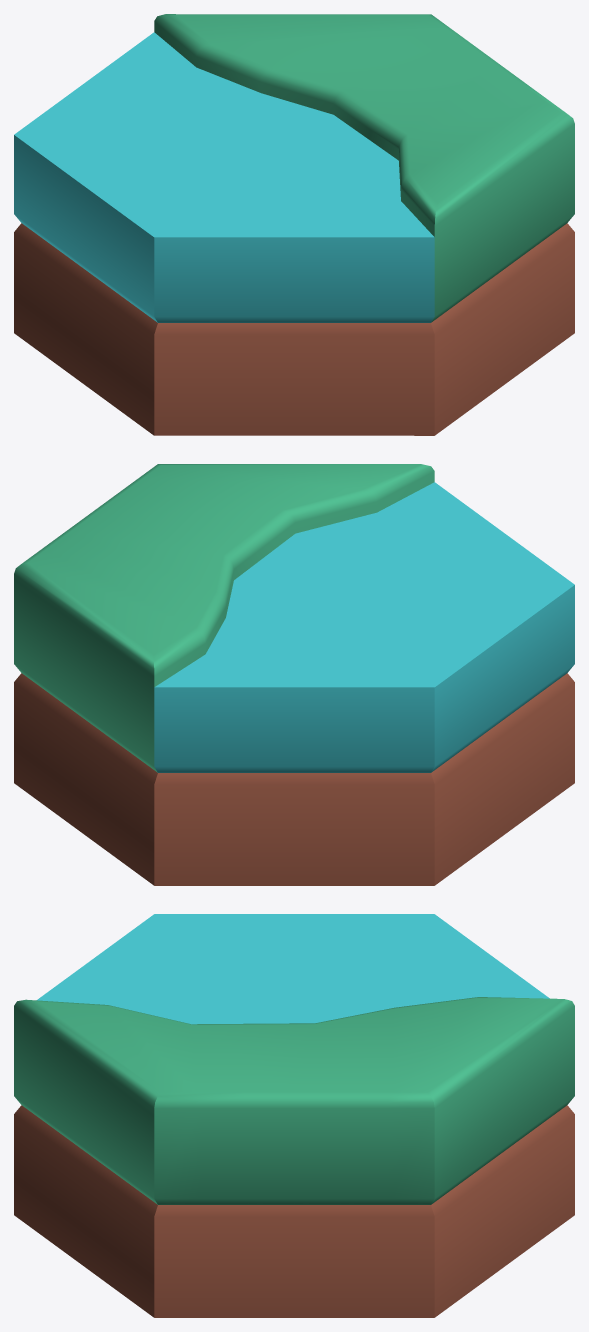
Rendered from kaykit-hex-forest-waterc-detail.glb.
3 views of the same model, one above another, from view 1: azimuth 30°, elevation 25°; view 2: azimuth 150°, elevation 25°; view 3: azimuth 270°, elevation 25° (orthographic).
Parts seen in each view (by area): view 1: hex_forest_waterC_detail; view 2: hex_forest_waterC_detail; view 3: hex_forest_waterC_detail.
Part boxes in pixels (x1,y1,x2,y2): hex_forest_waterC_detail: (14,14,574,435); hex_forest_waterC_detail: (14,464,574,885); hex_forest_waterC_detail: (14,914,574,1317).
Size of the model in its own units: 2 by 1 by 2.31.
